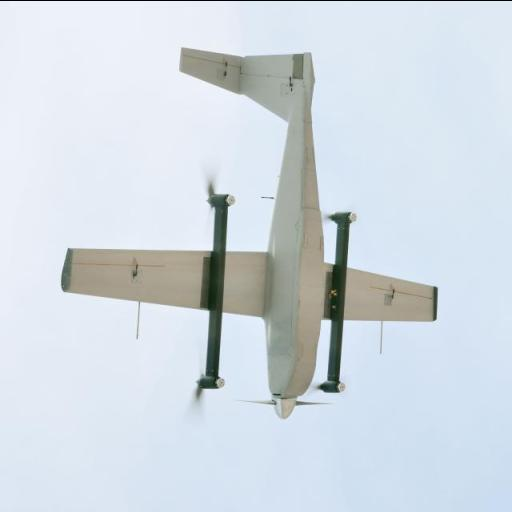uav: (54, 38, 450, 444)
